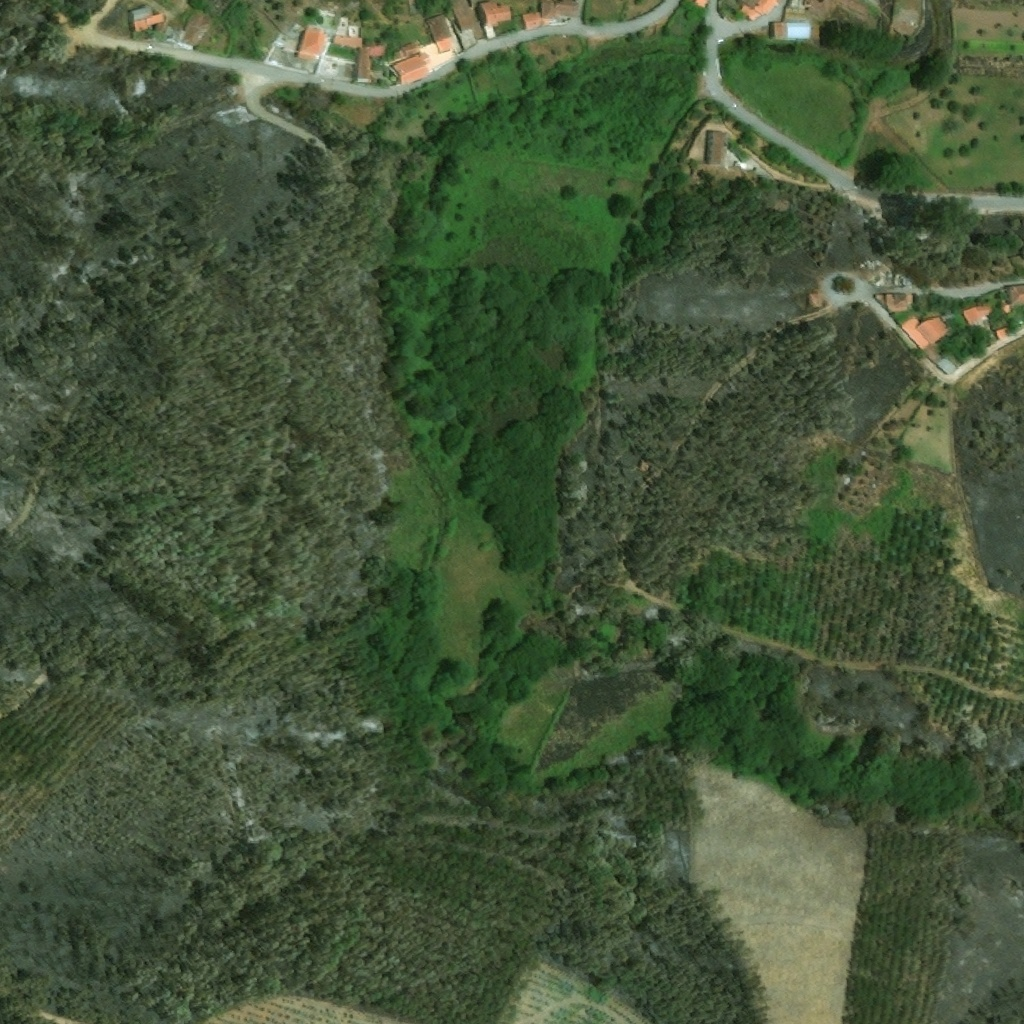0 no-damage: (901, 316, 951, 351), (391, 55, 430, 85), (178, 13, 210, 48), (448, 0, 480, 33), (426, 15, 453, 54), (294, 28, 327, 59), (704, 129, 728, 165), (129, 7, 162, 33), (478, 2, 511, 26), (770, 22, 810, 41), (542, 0, 578, 20), (964, 303, 993, 327), (885, 294, 914, 313), (936, 355, 958, 375), (994, 323, 1017, 341), (332, 35, 363, 48), (356, 51, 369, 80), (522, 13, 540, 31), (370, 41, 390, 55), (1009, 286, 1023, 305), (401, 43, 418, 57)
1 minor-damage: (806, 293, 820, 309)
3 destroyed: (875, 273, 910, 287)
4 un-classified: (738, 0, 758, 21), (754, 0, 776, 17), (804, 0, 828, 14), (695, 0, 710, 8)
